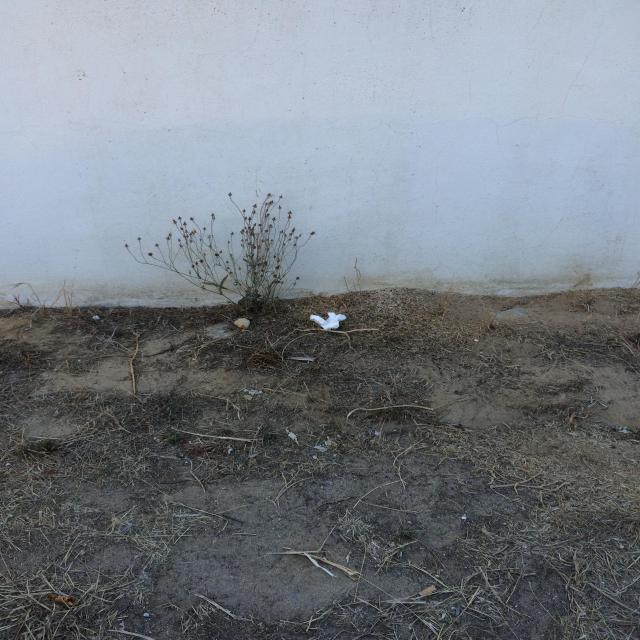litter: (313, 313, 346, 331)
